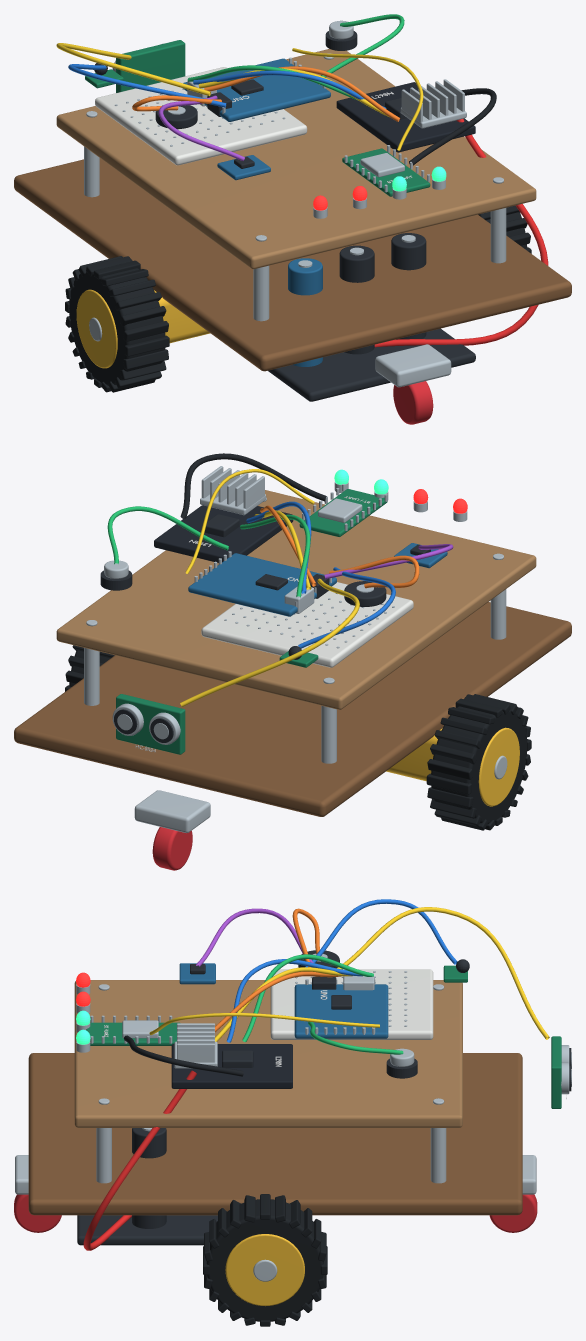
The model's file is robot-v2.glb.
3 renders of one model, top to bottom at view 1: azimuth 30°, elevation 25°; view 2: azimuth 150°, elevation 25°; view 3: azimuth 270°, elevation 25°, orthographic.
Visible parts, largest first — view 1: Robot | lower MDF chassis plate, Robot | upper electronics platform, Electronics | breadboard, Power | battery cradle, Drive | left black tread tire, L298N | driver PCB, Arduino Uno | blue PCB, Caster | rear swivel mount, HC-SR04 | green PCB, Drive | left yellow wheel hub, SCHEMATIC | motor supply to L298N (converter not verified), Caster | rear red wheel (+24 smaller); view 2: Robot | lower MDF chassis plate, Robot | upper electronics platform, Electronics | breadboard, Arduino Uno | blue PCB, Drive | left black tread tire, L298N | driver PCB, Caster | front swivel mount, Drive | left yellow wheel hub, HC-SR04 | green PCB, Caster | front red wheel, ESP32 | DevKit PCB | bridge role, SCHEMATIC | UNO D2/D3 to HC-SR04 TRIG/ECHO (+18 smaller); view 3: Robot | lower MDF chassis plate, Robot | upper electronics platform, Drive | right black tread tire, Electronics | breadboard, Drive | right yellow wheel hub, Arduino Uno | blue PCB, L298N | driver PCB, Power | battery cradle, SCHEMATIC | motor supply to L298N (converter not verified), SCHEMATIC | UNO D2/D3 to HC-SR04 TRIG/ECHO, ESP32 | DevKit PCB | bridge role, Power | cylindrical cell 3 | estimate (+20 smaller).
Part boxes in pixels (x1=…): Robot | lower MDF chassis plate: x1=14, y1=158, x2=571, y2=371; Robot | upper electronics platform: x1=56, y1=49, x2=536, y2=269; Electronics | breadboard: x1=95, y1=67, x2=307, y2=165; Power | battery cradle: x1=268, y1=328, x2=475, y2=401; Drive | left black tread tire: x1=69, y1=268, x2=165, y2=385; L298N | driver PCB: x1=336, y1=82, x2=475, y2=152; Arduino Uno | blue PCB: x1=183, y1=58, x2=330, y2=121; Caster | rear swivel mount: x1=375, y1=344, x2=451, y2=387; HC-SR04 | green PCB: x1=116, y1=40, x2=185, y2=92; Drive | left yellow wheel hub: x1=76, y1=289, x2=117, y2=368; SCHEMATIC | motor supply to L298N (converter not verified): x1=374, y1=119, x2=548, y2=347; Caster | rear red wheel: x1=393, y1=381, x2=433, y2=424; Robot | lower MDF chassis plate: x1=14, y1=602, x2=571, y2=816; Robot | upper electronics platform: x1=56, y1=490, x2=536, y2=709; Electronics | breadboard: x1=201, y1=582, x2=413, y2=667; Arduino Uno | blue PCB: x1=188, y1=553, x2=336, y2=616; Drive | left black tread tire: x1=431, y1=706, x2=527, y2=823; L298N | driver PCB: x1=154, y1=505, x2=293, y2=562; Caster | front swivel mount: x1=134, y1=790, x2=210, y2=832; Drive | left yellow wheel hub: x1=478, y1=727, x2=519, y2=806; HC-SR04 | green PCB: x1=116, y1=694, x2=185, y2=754; Caster | front red wheel: x1=152, y1=827, x2=192, y2=870; ESP32 | DevKit PCB | bridge role: x1=299, y1=489, x2=387, y2=536; SCHEMATIC | UNO D2/D3 to HC-SR04 TRIG/ECHO: x1=180, y1=578, x2=359, y2=706; Robot | lower MDF chassis plate: x1=28, y1=1053, x2=522, y2=1215; Robot | upper electronics platform: x1=74, y1=980, x2=462, y2=1127; Drive | right black tread tire: x1=206, y1=1199, x2=323, y2=1321; Electronics | breadboard: x1=270, y1=969, x2=433, y2=1039; Drive | right yellow wheel hub: x1=225, y1=1234, x2=304, y2=1306; Arduino Uno | blue PCB: x1=294, y1=984, x2=388, y2=1038; L298N | driver PCB: x1=171, y1=1044, x2=292, y2=1088; Power | battery cradle: x1=77, y1=1215, x2=217, y2=1245; SCHEMATIC | motor supply to L298N (converter not verified): x1=83, y1=1070, x2=196, y2=1250; SCHEMATIC | UNO D2/D3 to HC-SR04 TRIG/ECHO: x1=337, y1=907, x2=549, y2=1039; ESP32 | DevKit PCB | bridge role: x1=86, y1=1022, x2=180, y2=1045; Power | cylindrical cell 3 | estimate: x1=132, y1=1128, x2=166, y2=1228.
Size of the model in its own units: 0.268 by 0.1678 by 0.3219.
